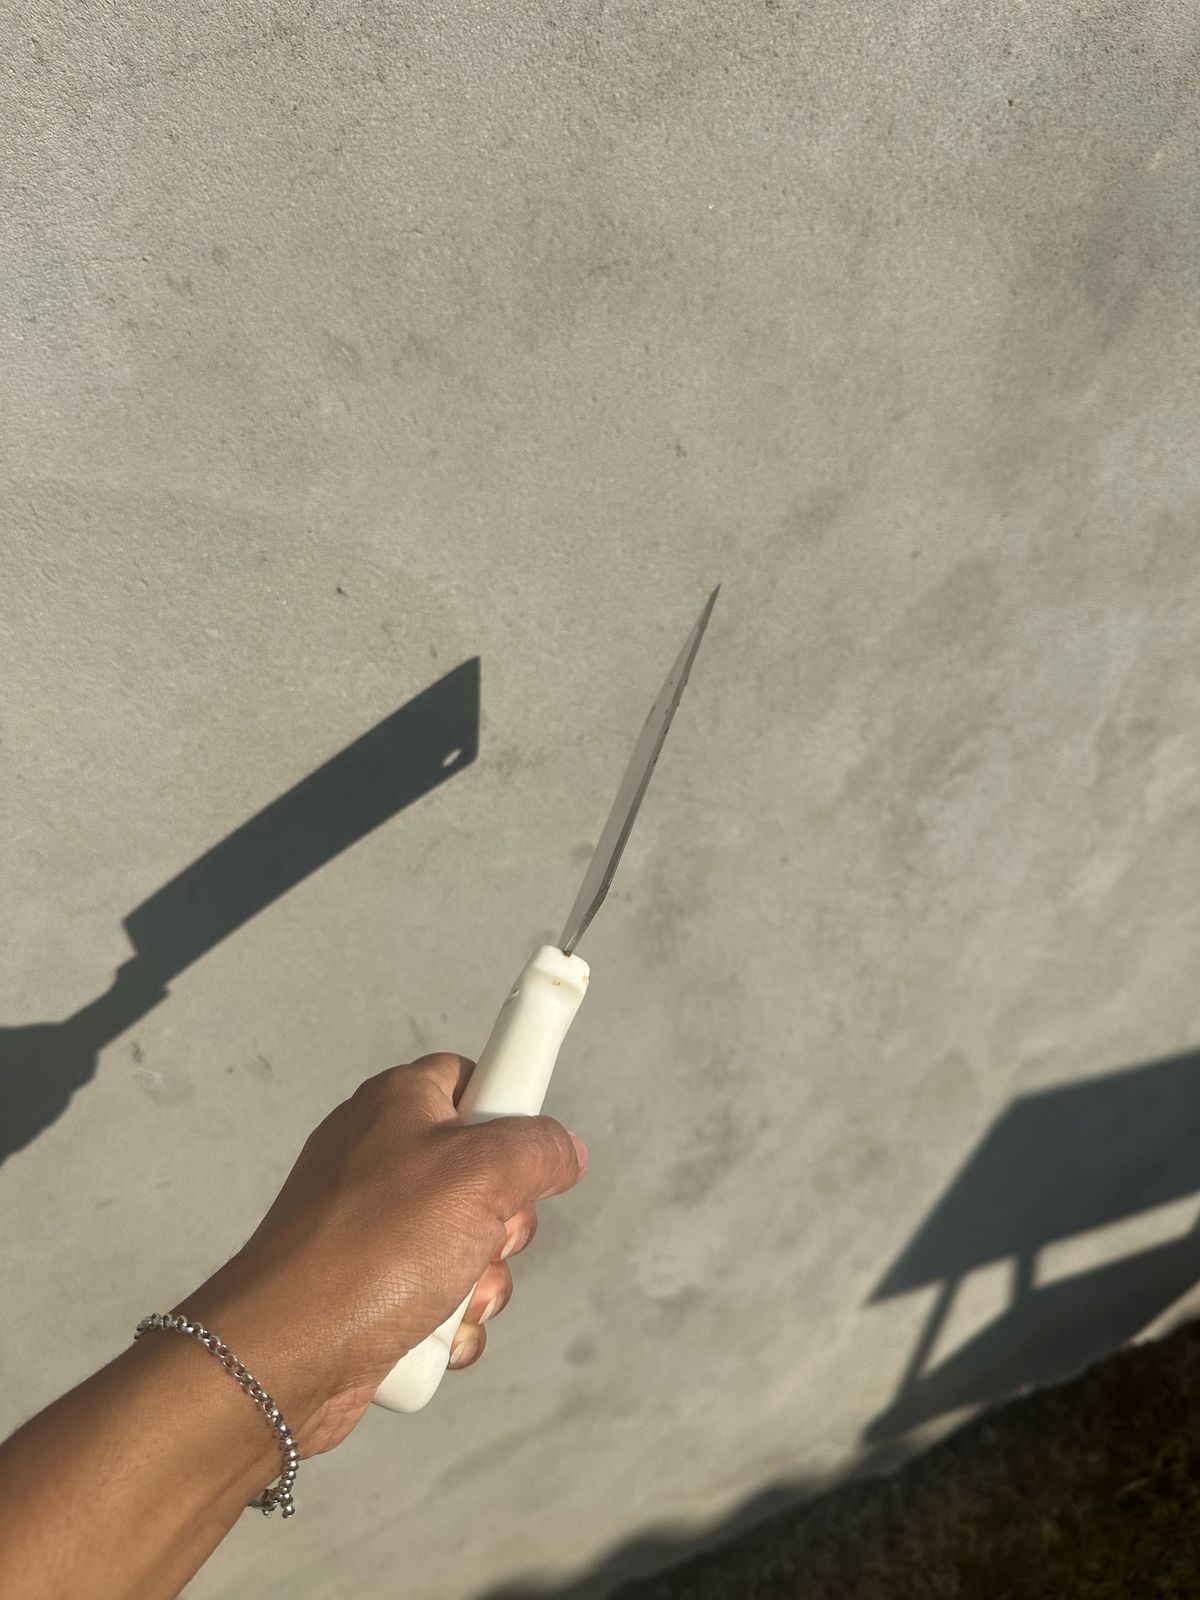faca: (480, 553, 764, 1111)
